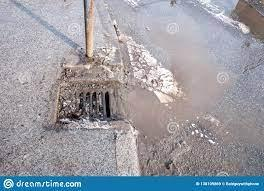open manhole-not overflowing-: (57, 83, 127, 123)
